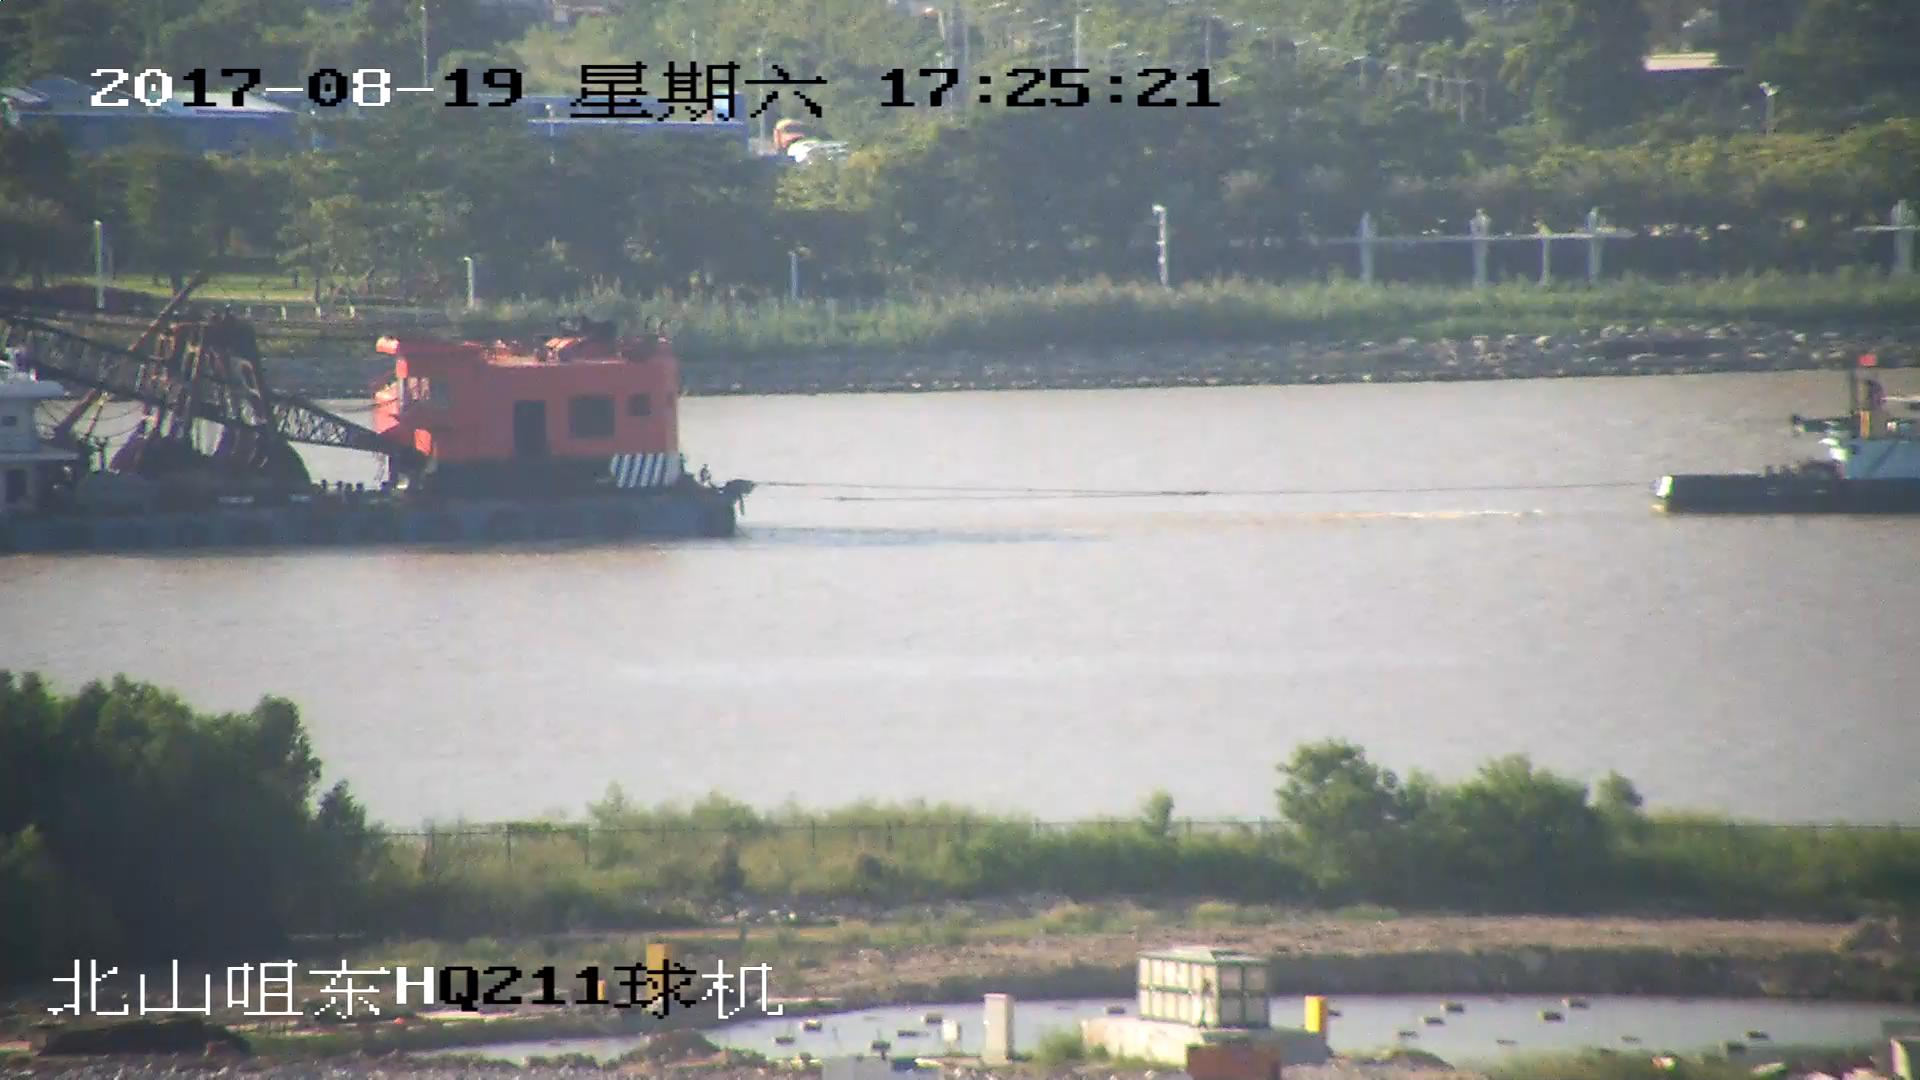fishing boat: (1, 279, 763, 547), (1655, 393, 1920, 511)
